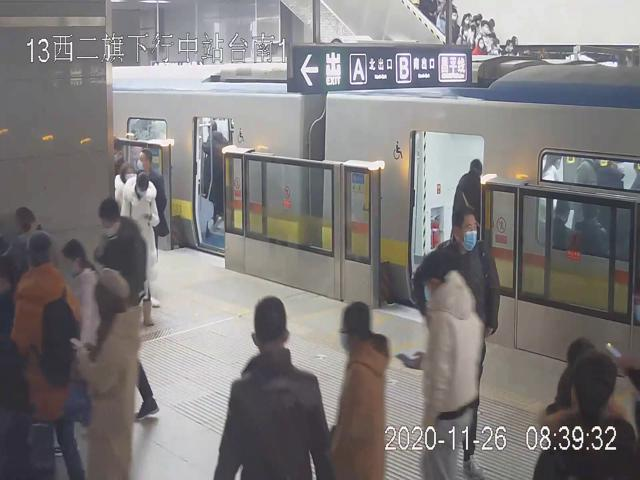person: (418, 208, 502, 474), (213, 293, 331, 480), (12, 232, 83, 480), (415, 273, 483, 480), (121, 173, 155, 320)
